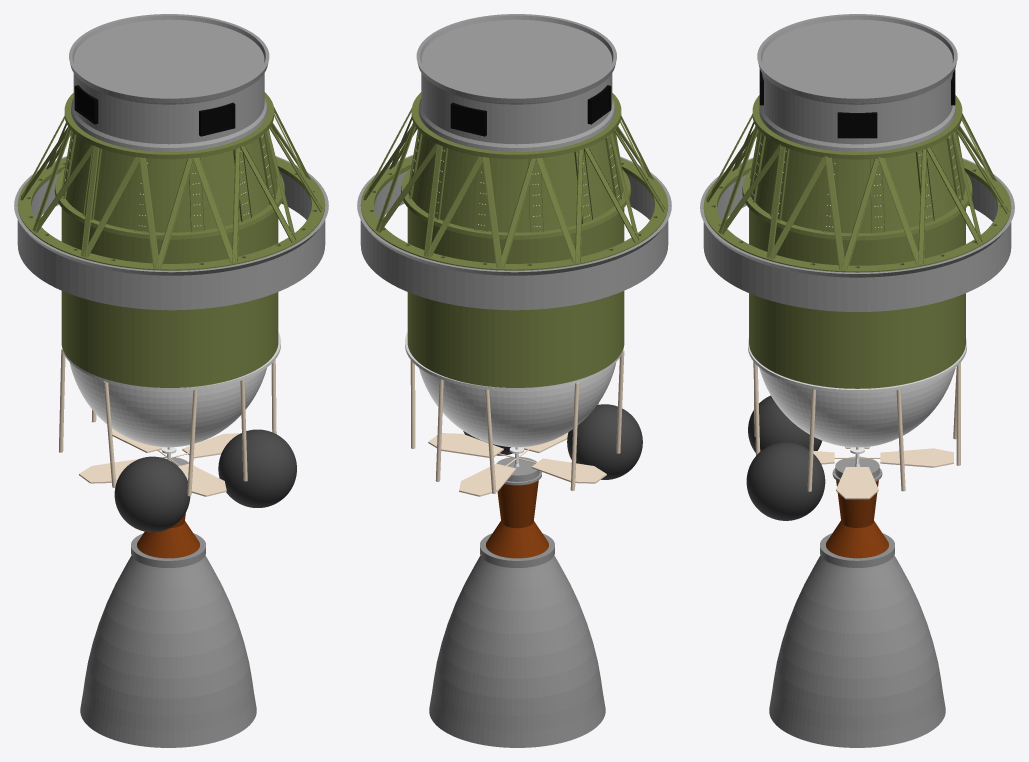
Rendered from nasaspacecraft.glb.
The picture shows the model from 3 angles, left to right: view 1: azimuth 30°, elevation 25°; view 2: azimuth 150°, elevation 25°; view 3: azimuth 270°, elevation 25°; orthographic projection.
Visible parts, largest first — view 1: Cylinder.008, Cylinder.009, Cylinder.010, Cylinder.011, Cylinder.012, Sphere, Sphere.001, Sphere.002, Cube, Cube.001, Cylinder.013, Cube.002 (+5 smaller); view 2: Cylinder.008, Cylinder.009, Cylinder.010, Cylinder.012, Cylinder.011, Sphere, Cube, Cylinder.013, Cube.001, Sphere.002, Cube.002, Cylinder.014 (+4 smaller); view 3: Cylinder.008, Cylinder.009, Cylinder.010, Cylinder.011, Cylinder.012, Sphere, Sphere.001, Cube, Cube.001, Cylinder.013, Cube.002, Cylinder.014 (+4 smaller).
Boxes of the visible parts, <box> form: Cylinder.008: <box>80,513,256,747</box>; Cylinder.009: <box>69,14,269,151</box>; Cylinder.010: <box>61,208,278,387</box>; Cylinder.011: <box>54,129,284,239</box>; Cylinder.012: <box>14,156,328,310</box>; Sphere: <box>69,362,266,461</box>; Sphere.001: <box>218,429,296,507</box>; Sphere.002: <box>114,456,190,532</box>; Cube: <box>20,107,322,268</box>; Cube.001: <box>20,114,322,268</box>; Cylinder.013: <box>17,157,325,270</box>; Cube.002: <box>79,428,240,496</box>; Cylinder.008: <box>429,480,605,747</box>; Cylinder.009: <box>416,14,616,151</box>; Cylinder.010: <box>407,208,624,387</box>; Cylinder.012: <box>357,155,671,310</box>; Cylinder.011: <box>401,130,631,239</box>; Sphere: <box>419,362,616,466</box>; Cube: <box>363,108,665,268</box>; Cylinder.013: <box>360,156,668,270</box>; Cube.001: <box>363,116,665,268</box>; Sphere.002: <box>567,404,642,479</box>; Cube.002: <box>428,432,606,496</box>; Cylinder.014: <box>411,92,621,159</box>; Cylinder.008: <box>769,480,945,747</box>; Cylinder.009: <box>757,14,957,152</box>; Cylinder.010: <box>749,208,965,388</box>; Cylinder.011: <box>742,130,972,240</box>; Cylinder.012: <box>700,158,1014,311</box>; Sphere: <box>759,368,955,466</box>; Sphere.001: <box>746,442,825,520</box>; Cube: <box>706,113,1008,270</box>; Cube.001: <box>706,118,1008,270</box>; Cylinder.013: <box>703,159,1011,272</box>; Cube.002: <box>813,446,953,499</box>; Cylinder.014: <box>752,95,962,159</box>.
Size of the model in its own units: 2.68 by 6.14 by 2.68.
